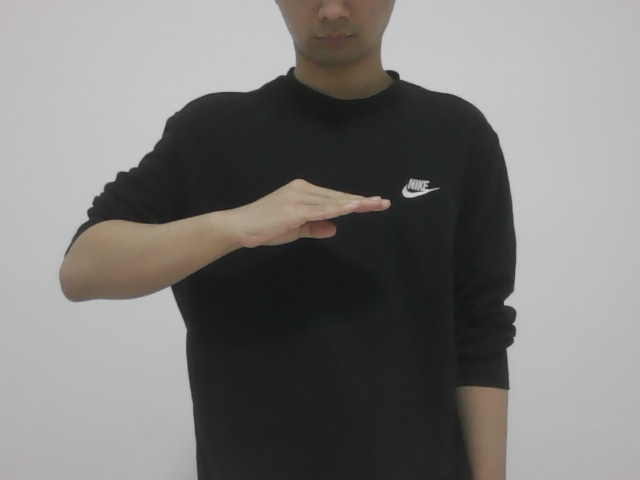late/night: (229, 159, 394, 259)
